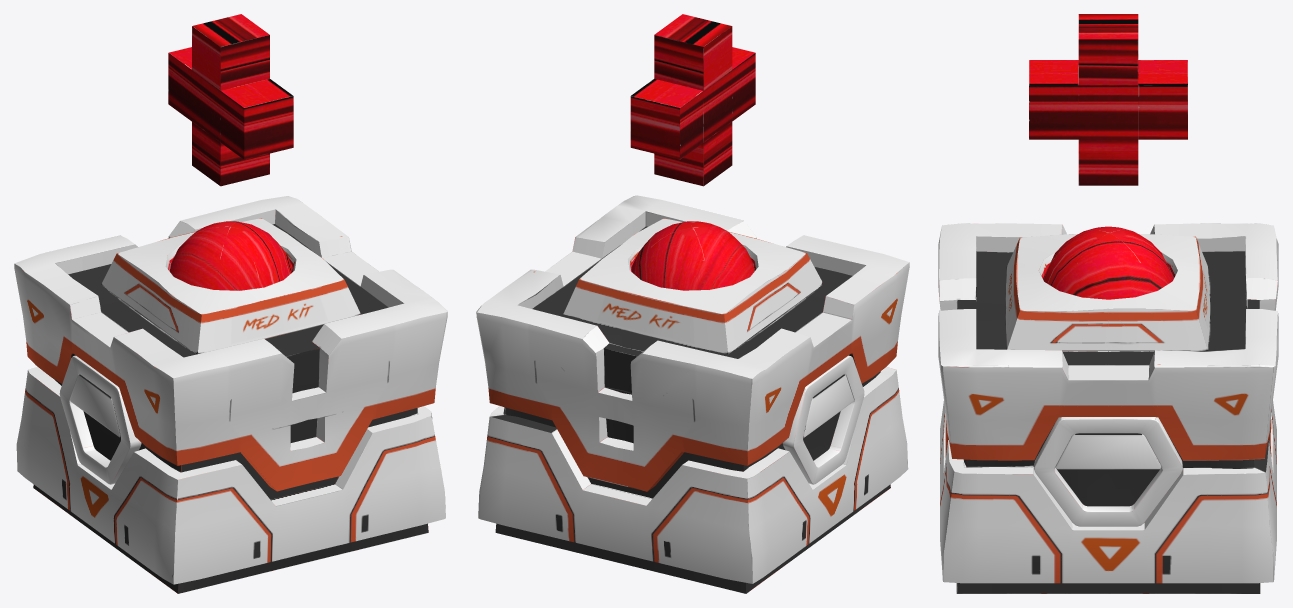
Rendered from Kube.fbx.
The picture shows the model from 3 angles, left to right: view 1: azimuth 30°, elevation 25°; view 2: azimuth 150°, elevation 25°; view 3: azimuth 270°, elevation 25°; orthographic projection. The views are drawn at different scales.
Visible parts, largest first — view 1: КУБ; view 2: КУБ; view 3: КУБ.
Part boxes in pixels (x1=…): КУБ: x1=14, y1=14, x2=447, y2=593; КУБ: x1=476, y1=14, x2=909, y2=593; КУБ: x1=938, y1=14, x2=1278, y2=593.
Size of the model in its own units: 224 by 366 by 224.
